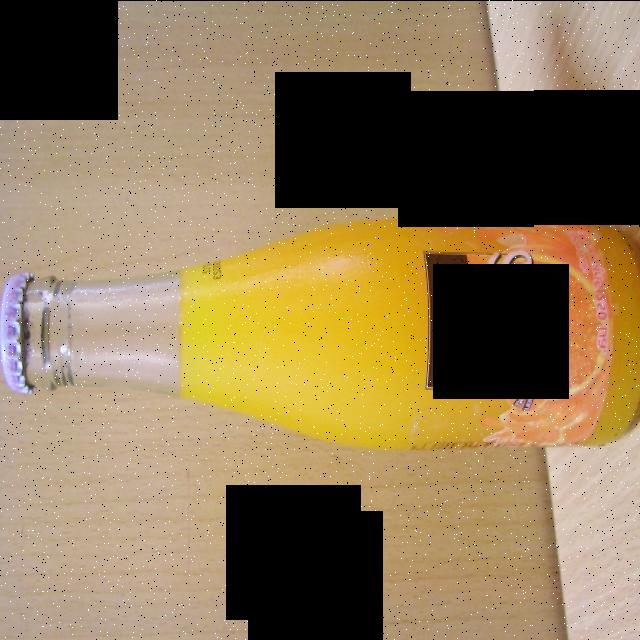glass-bottle: (4, 190, 640, 470)
